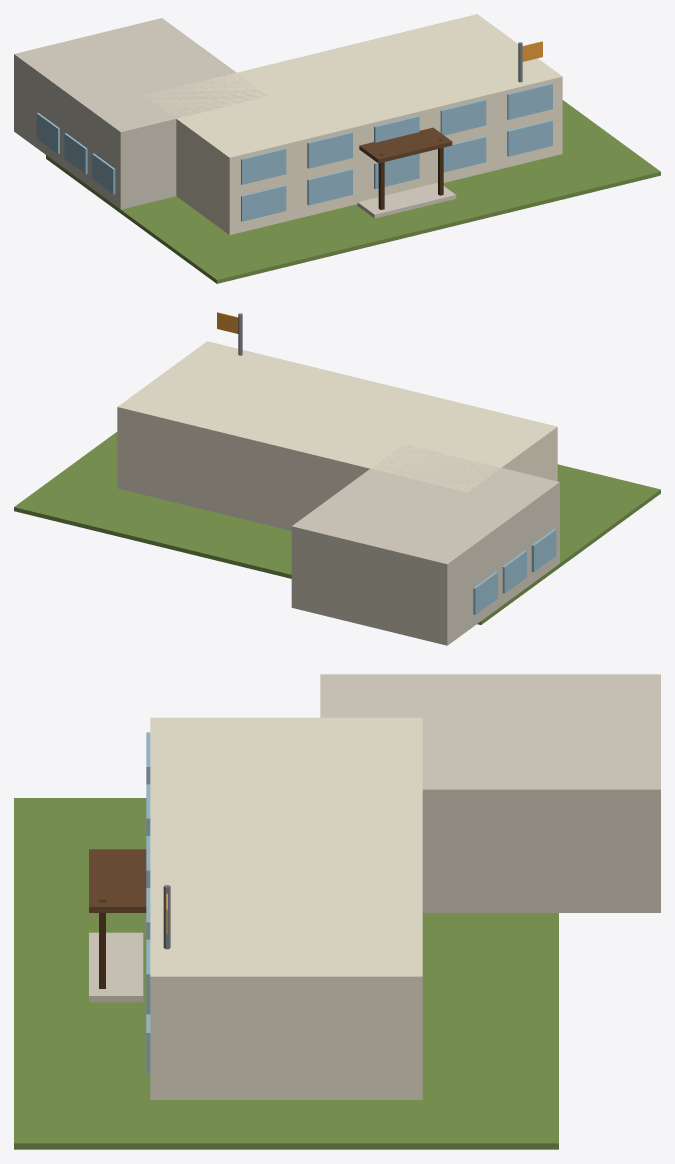
The model's file is building.school.glb.
3 renders of one model, top to bottom at view 1: azimuth 30°, elevation 25°; view 2: azimuth 150°, elevation 25°; view 3: azimuth 270°, elevation 25°, orthographic. The views are drawn at different scales.
Visible parts, largest first — view 1: building.school; view 2: building.school; view 3: building.school.
Part boxes in pixels (left/top/right/bottom): building.school: left=14, top=14, right=660, bottom=283; building.school: left=14, top=312, right=660, bottom=645; building.school: left=14, top=674, right=660, bottom=1149.
Size of the model in its own units: 24.11 by 6.2 by 19.
